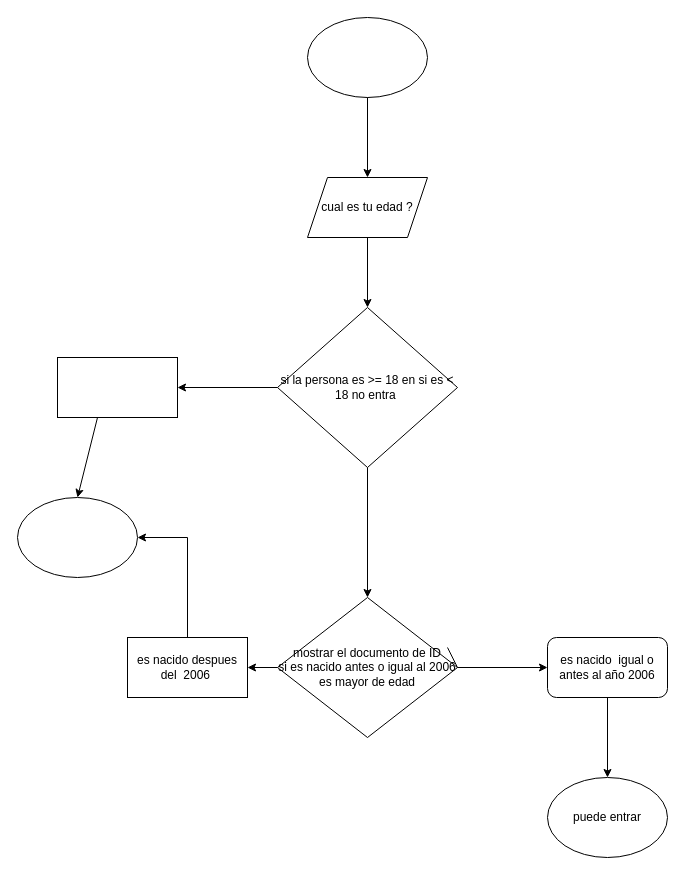
This 685x875 diagram has some shape labels left out. Here are the shapes that lost their labels. From the top down, the centre of each, then its label:
At point 367,57: "edad de las personas si menor o mayor de edad.".
At point 117,387: "es menor de 18".
At point 77,537: "no entra por que es menos de edad.".
